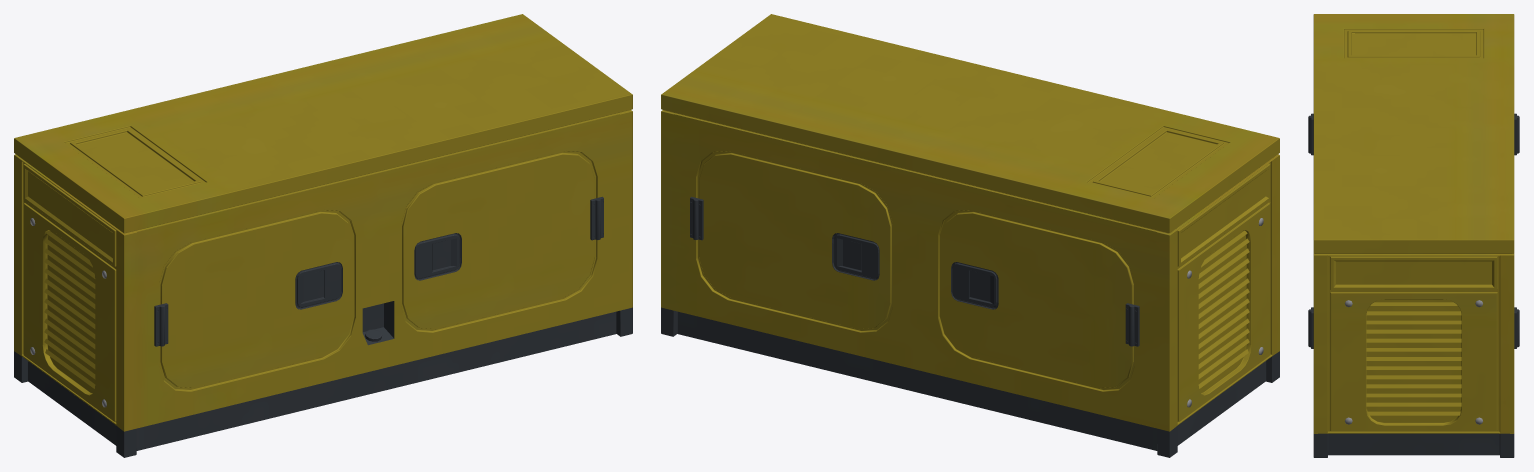
The model's file is groupe_electrogene_mobile.glb.
3 views of the same model, side by side, from view 1: azimuth 30°, elevation 25°; view 2: azimuth 150°, elevation 25°; view 3: azimuth 270°, elevation 25° (orthographic). The views are drawn at different scales.
Visible parts, largest first — view 1: Diesel_Generator; view 2: Diesel_Generator; view 3: Diesel_Generator.
Part boxes in pixels (x1,y1,x2,y2): Diesel_Generator: [14, 14, 632, 457]; Diesel_Generator: [661, 14, 1279, 457]; Diesel_Generator: [1308, 14, 1519, 457].
Bounding box in the file's own units: 4.01 × 1.8 × 1.58.
1 material, 1 textured.
